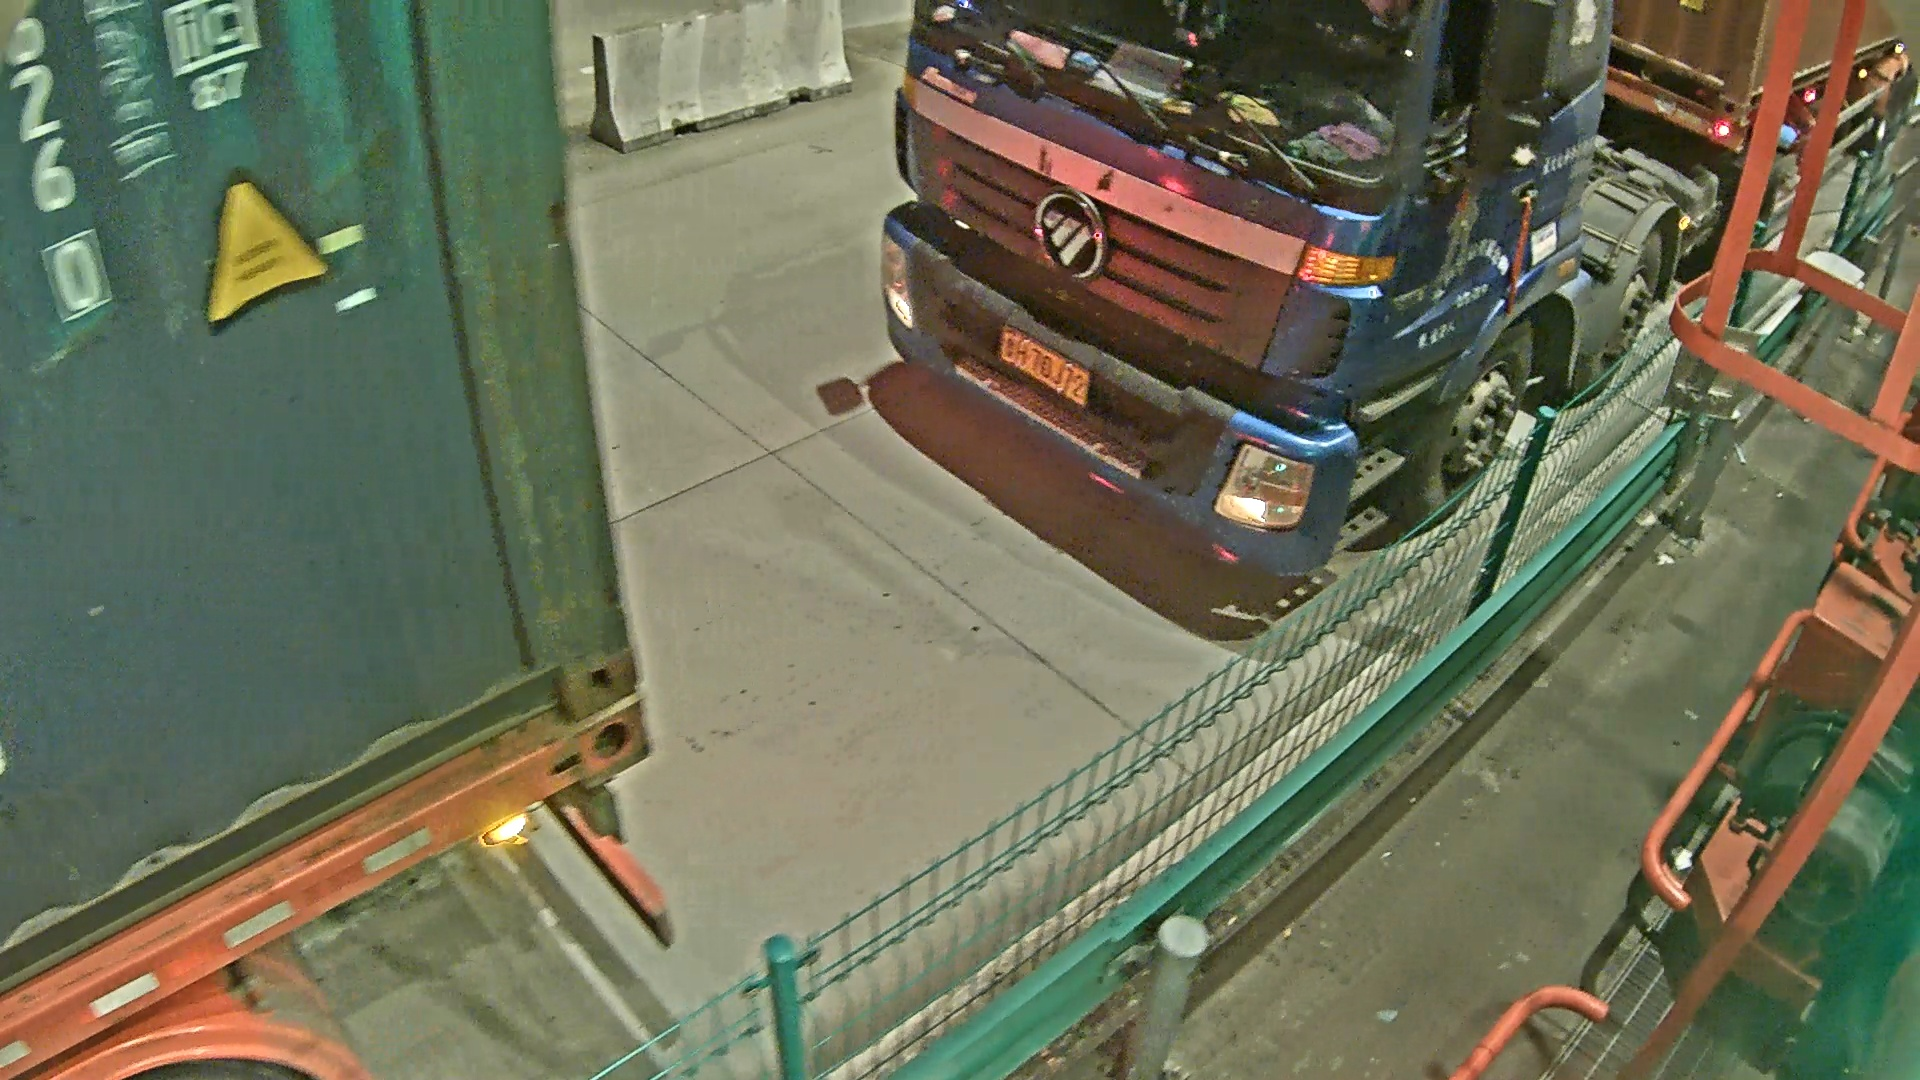head: (892, 18, 1451, 610)
plate: (999, 319, 1095, 411)
